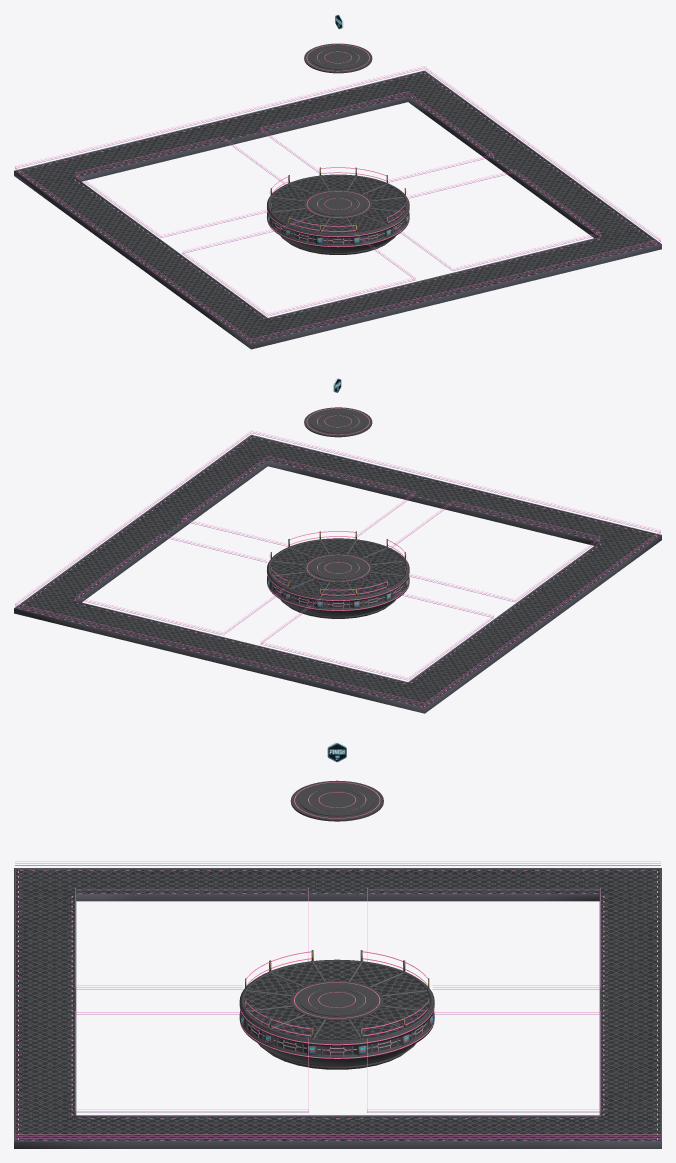
Rendered from map4.glb.
The picture shows the model from 3 angles, top to bottom: view 1: azimuth 30°, elevation 25°; view 2: azimuth 150°, elevation 25°; view 3: azimuth 270°, elevation 25°; orthographic projection. The views are drawn at different scales.
Visible parts, largest first — view 1: PlatformMiddle, Platform1_4.006, Platform1_4.002, Platform1_4.004, Platform1_4.003, PlatformBack.001, FenceMiddle, Platform1_1.004, Platform1_1.033, Platform1_1.006, Platform1_1.011, Platform1_1.023 (+25 smaller); view 2: PlatformMiddle, Platform1_4.004, Platform1_4.003, Platform1_4.006, Platform1_4.002, PlatformBack.001, FenceMiddle, Platform1_1.006, Platform1_1.011, Platform1_1.013, Platform1_1.031, Platform1_1.032 (+25 smaller); view 3: PlatformMiddle, Platform1_4.002, Platform1_4.003, Platform1_4.004, Platform1_4.006, PlatformBack.001, FenceMiddle, Platform1_1.008, Platform1_1.020, Platform1_1.012, Platform1_1.007, Platform1_1.010 (+25 smaller).
Part boxes in pixels (x1=…): PlatformMiddle: x1=267, y1=176, x2=409, y2=254; Platform1_4.006: x1=207, y1=298, x2=326, y2=349; Platform1_4.002: x1=564, y1=208, x2=661, y2=267; Platform1_4.004: x1=14, y1=147, x2=112, y2=207; Platform1_4.003: x1=350, y1=66, x2=467, y2=116; PlatformBack.001: x1=304, y1=43, x2=372, y2=73; FenceMiddle: x1=267, y1=167, x2=408, y2=234; Platform1_1.004: x1=490, y1=250, x2=549, y2=285; Platform1_1.033: x1=238, y1=103, x2=297, y2=137; Platform1_1.006: x1=527, y1=241, x2=586, y2=276; Platform1_1.011: x1=313, y1=84, x2=372, y2=119; Platform1_1.023: x1=304, y1=295, x2=363, y2=330; PlatformMiddle: x1=266, y1=540, x2=409, y2=618; Platform1_4.004: x1=349, y1=663, x2=468, y2=713; Platform1_4.003: x1=14, y1=572, x2=111, y2=631; Platform1_4.006: x1=563, y1=512, x2=661, y2=571; Platform1_4.002: x1=208, y1=430, x2=325, y2=480; PlatformBack.001: x1=304, y1=407, x2=372, y2=437; FenceMiddle: x1=267, y1=531, x2=408, y2=598; Platform1_1.006: x1=303, y1=448, x2=363, y2=483; Platform1_1.011: x1=89, y1=605, x2=148, y2=640; Platform1_1.013: x1=126, y1=614, x2=185, y2=649; Platform1_1.031: x1=452, y1=485, x2=511, y2=519; Platform1_1.032: x1=378, y1=466, x2=437, y2=501; PlatformMiddle: x1=239, y1=962, x2=434, y2=1069; Platform1_4.002: x1=14, y1=1085, x2=132, y2=1148; Platform1_4.003: x1=543, y1=1085, x2=661, y2=1148; Platform1_4.004: x1=543, y1=861, x2=661, y2=918; Platform1_4.006: x1=14, y1=861, x2=132, y2=918; PlatformBack.001: x1=290, y1=780, x2=383, y2=821; FenceMiddle: x1=240, y1=950, x2=433, y2=1042; Platform1_1.008: x1=191, y1=1109, x2=250, y2=1148; Platform1_1.020: x1=425, y1=861, x2=484, y2=901; Platform1_1.012: x1=308, y1=861, x2=367, y2=901; Platform1_1.007: x1=133, y1=1109, x2=191, y2=1148; Platform1_1.010: x1=484, y1=1109, x2=542, y2=1148.
Size of what is drawn, in the model's own units: 66.4 by 33.78 by 66.4.
Materials: 4 (4 with a texture image).
